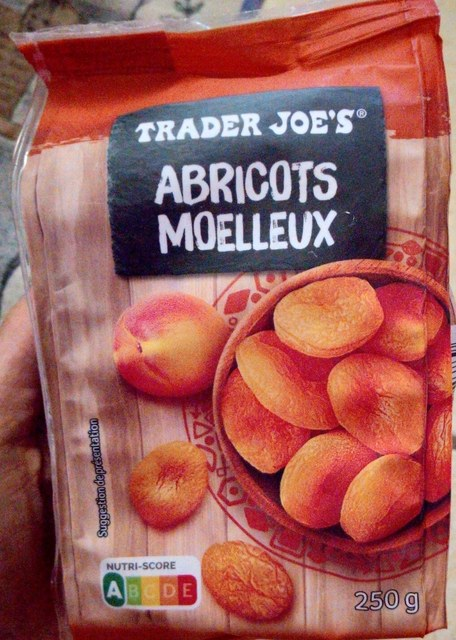Abricots moelleux: (23, 32, 433, 608)
